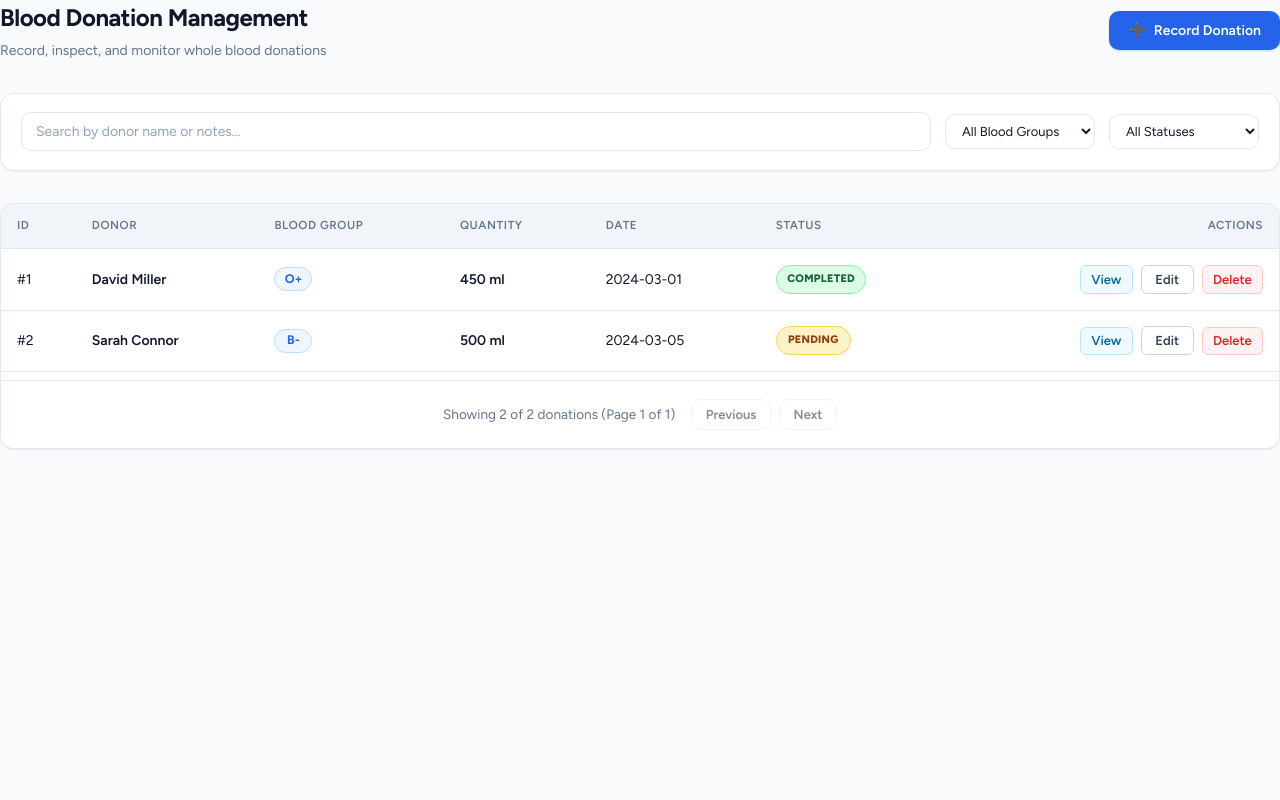
Test case: Donations Page Component › supports selecting a donor, displays donor info preview, and records donation
Click the button with test id "add-donation-btn" at (1195, 30), box top-left (1109, 11), bottom-right (1279, 50)
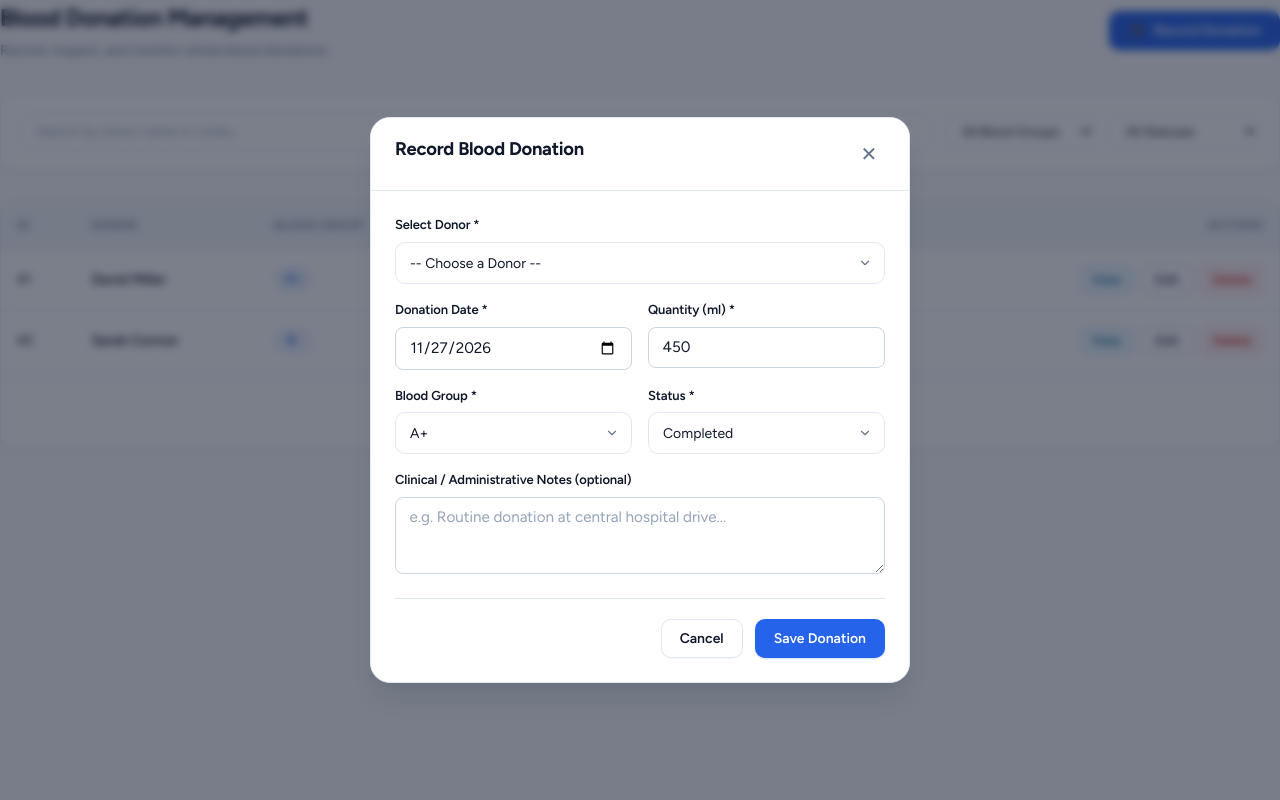
Check: the dropdown with test id "donor-select" is shown
# Select donor #10 (David Miller, O+)
Select "#10 - David Miller (O+)" in the dropdown with test id "donor-select" at (640, 263), box top-left (395, 242), bottom-right (885, 284)
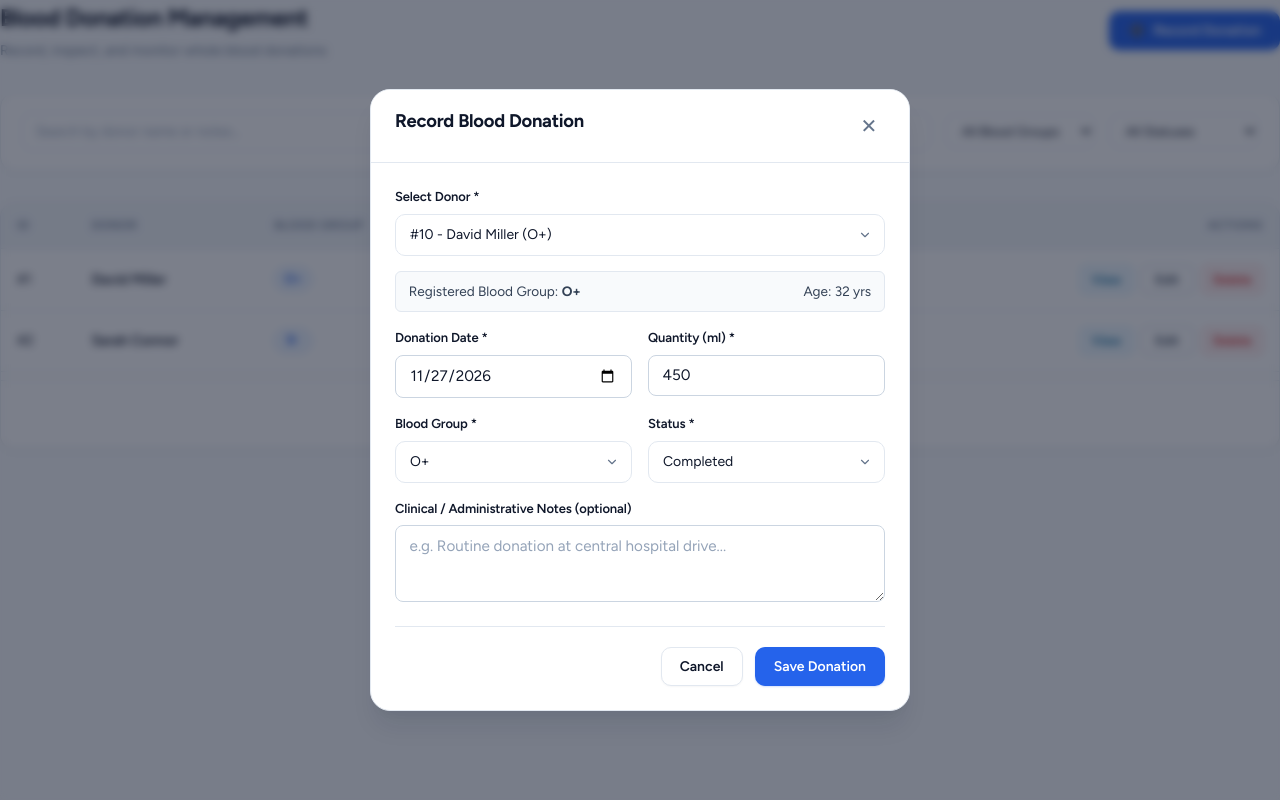
Check: the element with test id "donor-info-preview" is shown, box top-left (395, 271), bottom-right (885, 312)
Check: the text "Registered Blood Group: O+" is shown, box top-left (409, 281), bottom-right (581, 302)
Click the button with test id "submit-donation-btn" at (820, 666), box top-left (755, 647), bottom-right (885, 686)
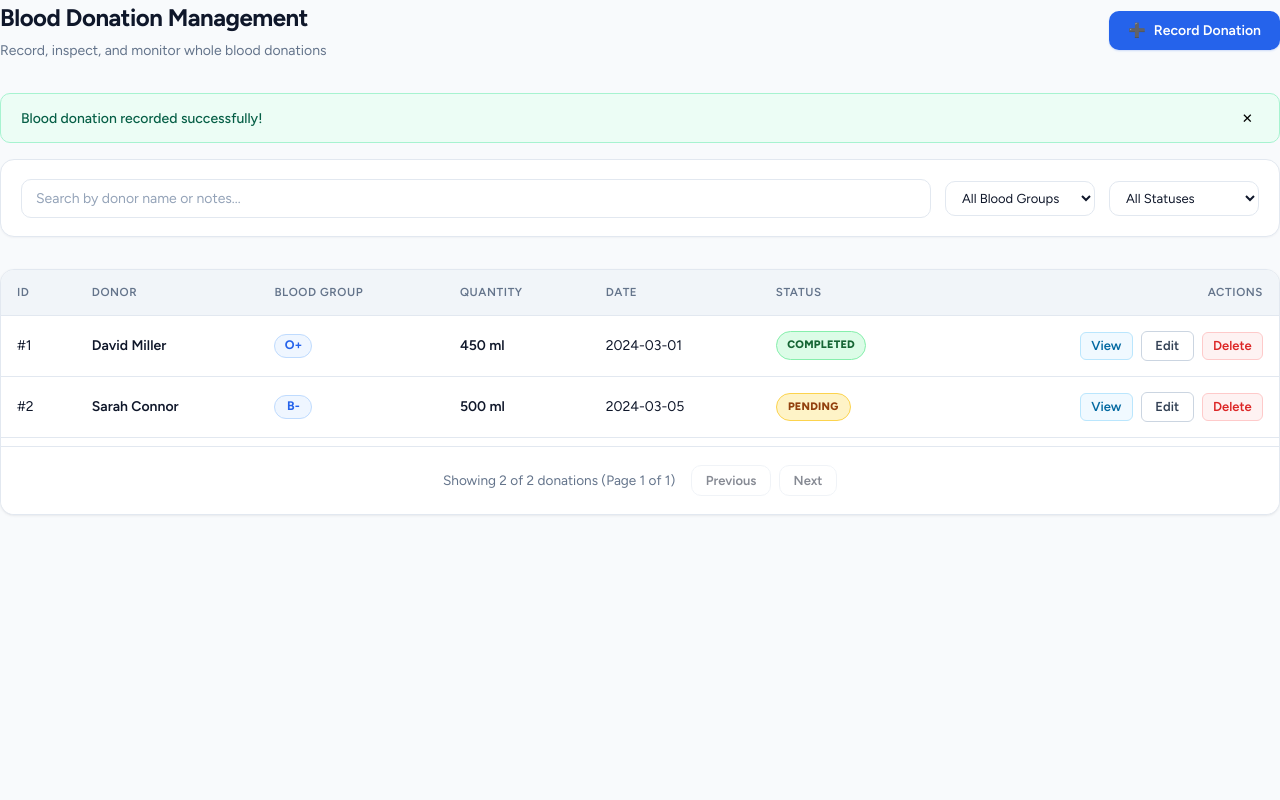
Check: the text "Blood donation recorded successfully!" is shown, box top-left (21, 108), bottom-right (262, 129)
